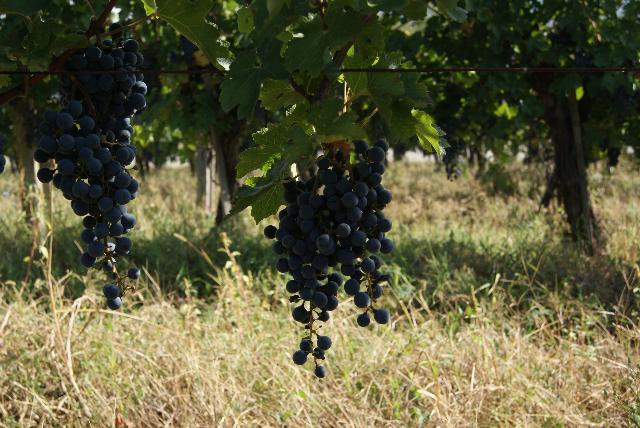grapes: (264, 140, 394, 378), (34, 100, 136, 310), (65, 31, 148, 120)
